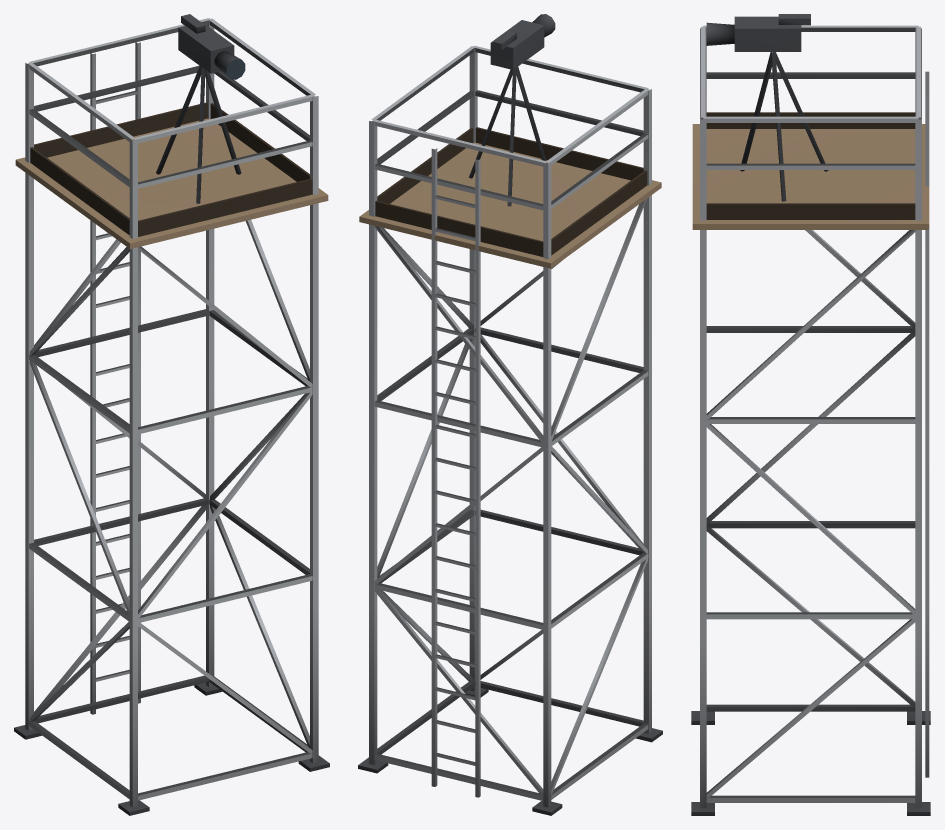
The model's file is camera_tower.glb.
3 views of the same model, side by side, from view 1: azimuth 30°, elevation 25°; view 2: azimuth 150°, elevation 25°; view 3: azimuth 270°, elevation 25° (orthographic). The views are drawn at different scales.
Parts seen in each view (by area): view 1: camera_tower; view 2: camera_tower; view 3: camera_tower.
Boxes of the visible parts, x1,y1,x2,y2 form: camera_tower: (14, 14, 329, 815); camera_tower: (358, 14, 662, 815); camera_tower: (691, 14, 930, 815).
Size of the model in its own units: 2.22 by 7.74 by 2.22.
